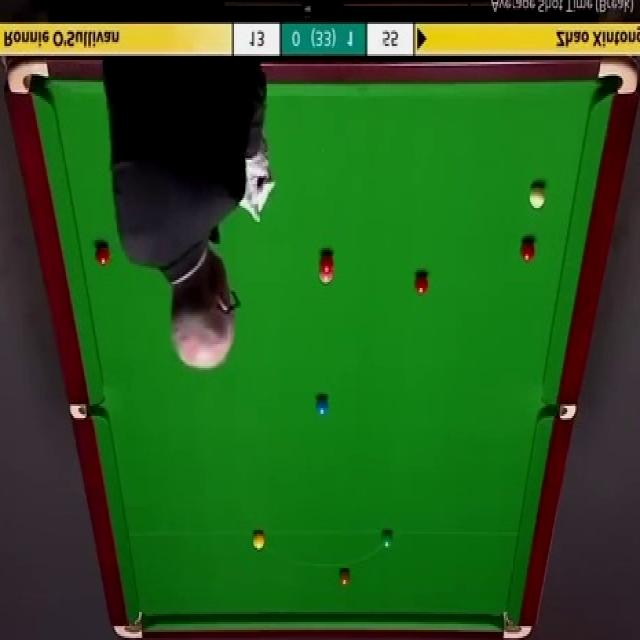pocket: (595, 57, 640, 100), (6, 57, 49, 98), (500, 611, 534, 640), (112, 614, 143, 638), (70, 404, 106, 422), (543, 402, 576, 420)
